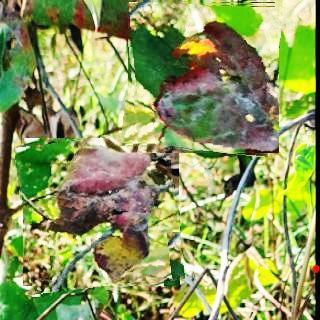blight: (19, 132, 181, 293), (124, 0, 279, 153)
